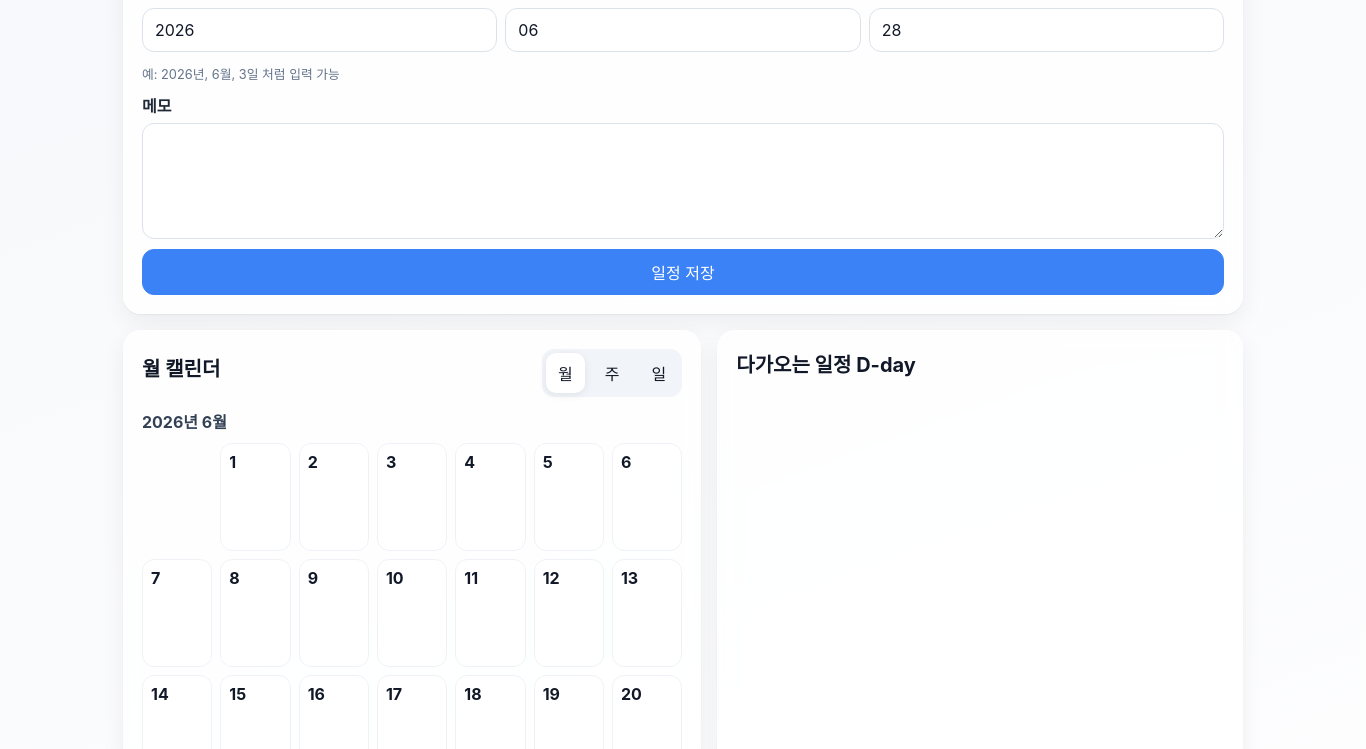
Scenario: App › switches calendar view mode
(page scrolled)
Click the button "주" at [612, 373], box [593,353,632,393]
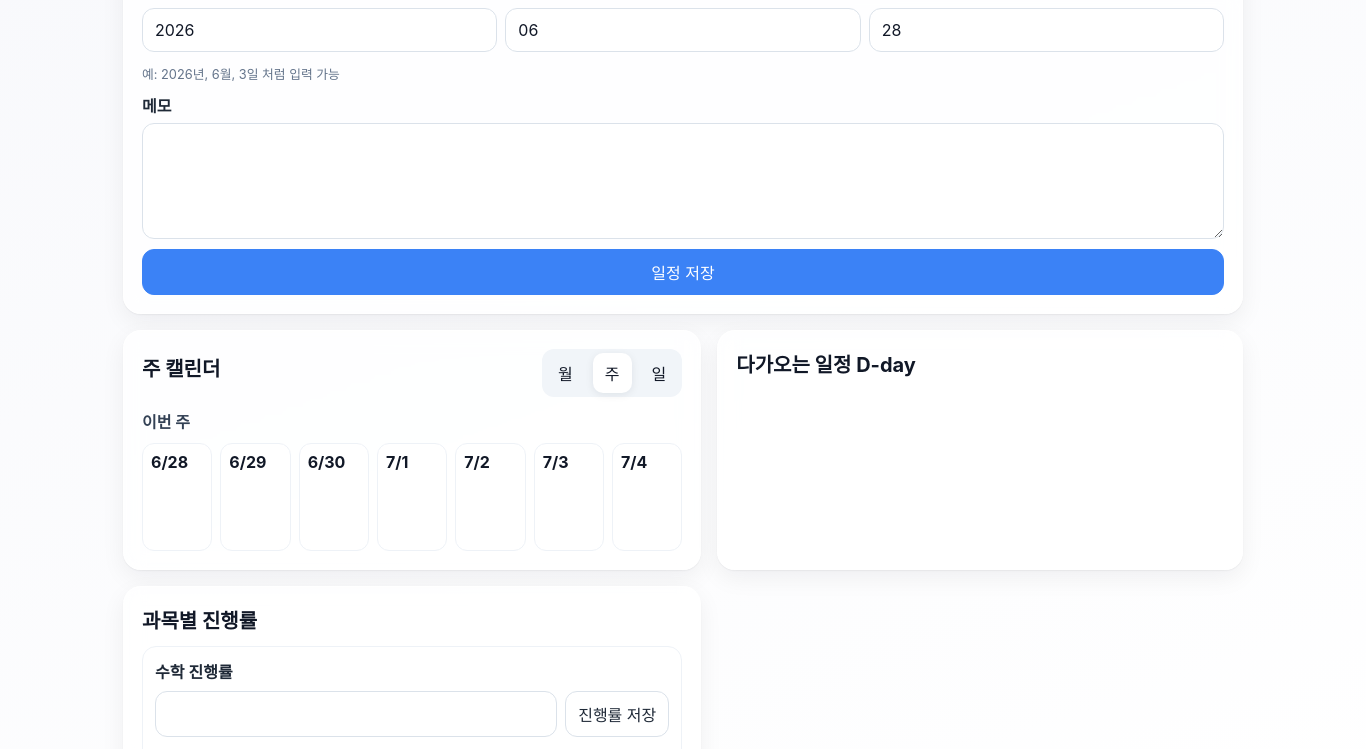
Check: the heading "주 캘린더" is shown, box [142,352,220,382]
Check: the table named "주간 일정 달력" is shown, box [142,443,682,551]
Click the button "일" at [659, 373], box [640,353,678,393]
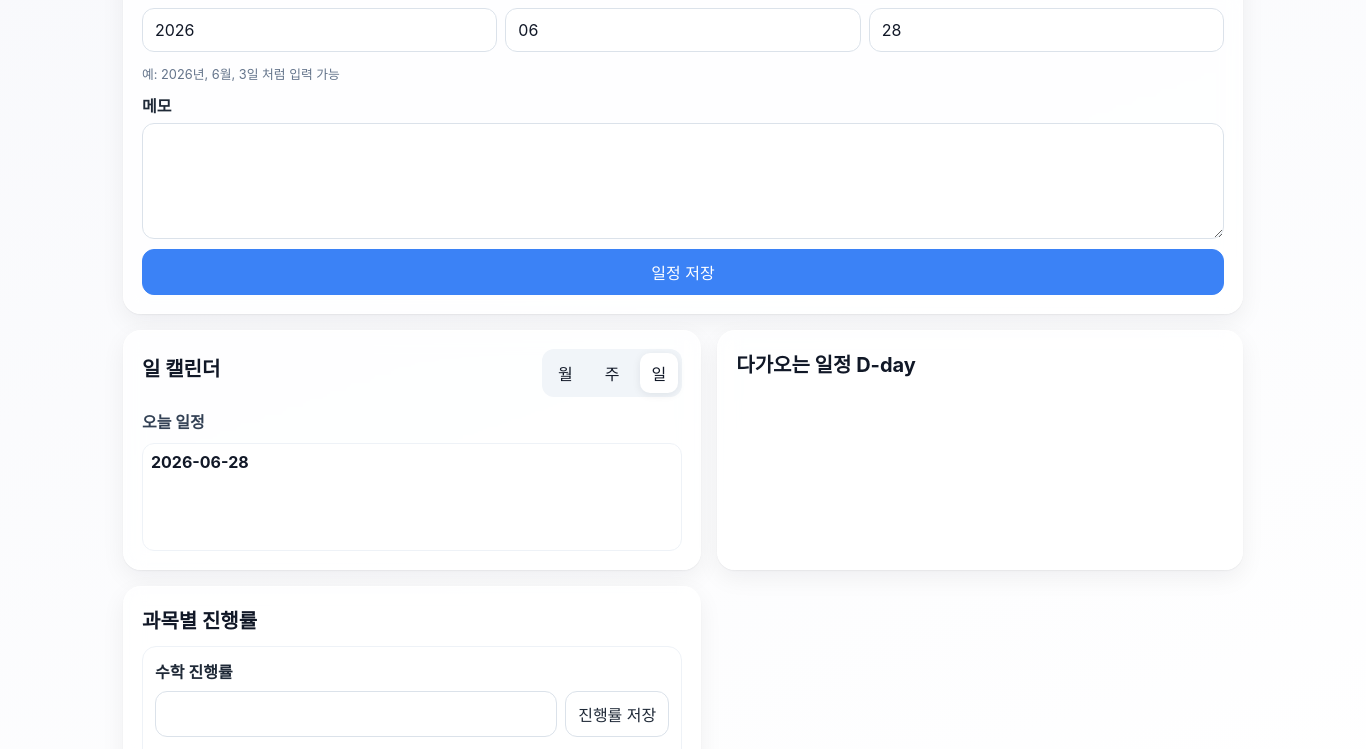
Check: the heading "일 캘린더" is shown, box [142,352,220,382]
Check: the table named "일간 일정 달력" is shown, box [142,443,682,551]
